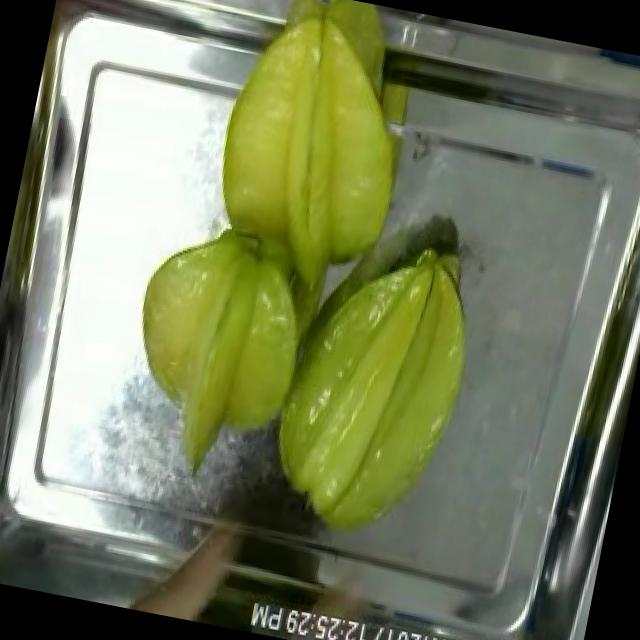fruit: (242, 214, 506, 572), (189, 0, 439, 297), (110, 202, 340, 459)
